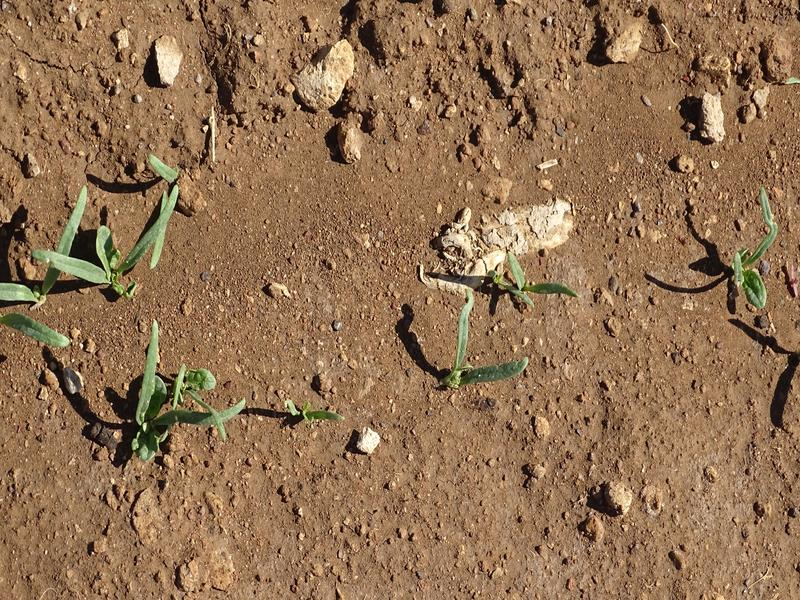Espinaca: (3, 161, 190, 305), (447, 254, 571, 394), (129, 326, 243, 464), (709, 196, 792, 319)
